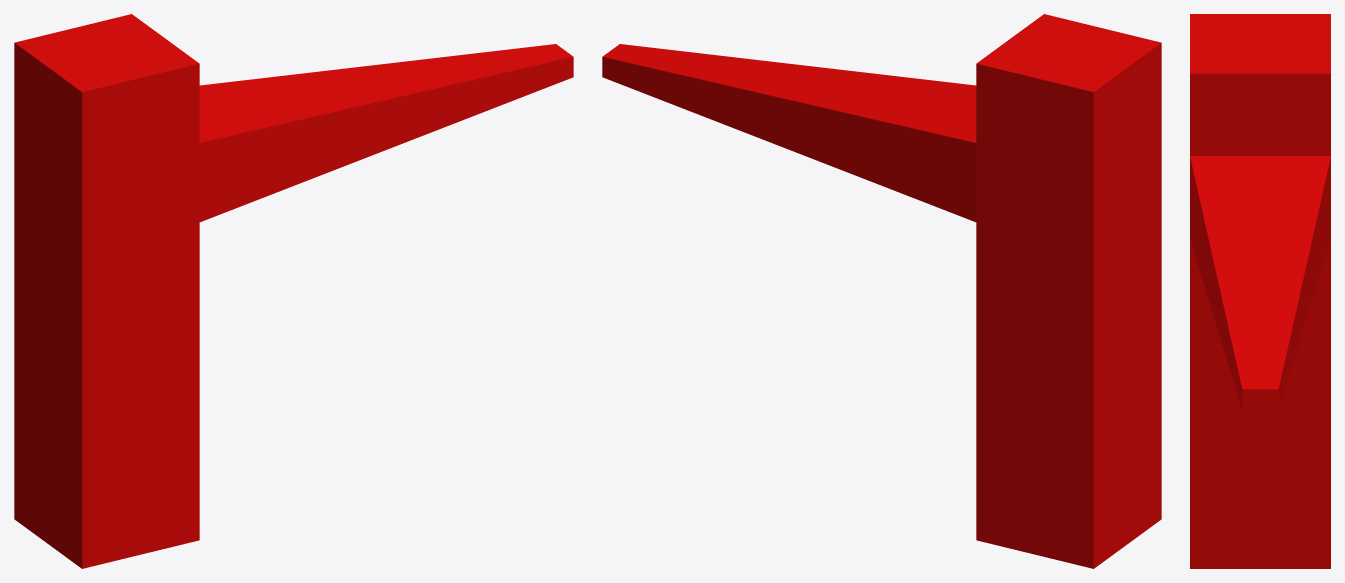
The model's file is gun.glb.
3 views of the same model, side by side, from view 1: azimuth 30°, elevation 25°; view 2: azimuth 150°, elevation 25°; view 3: azimuth 270°, elevation 25° (orthographic). The views are drawn at different scales.
Visible parts, largest first — view 1: Cube; view 2: Cube; view 3: Cube.
Boxes of the visible parts, x1,y1,x2,y2 form: Cube: (14, 14, 573, 568); Cube: (602, 14, 1161, 568); Cube: (1190, 14, 1330, 568).
Size of the model in its own units: 6.35 by 5.6 by 1.44.
